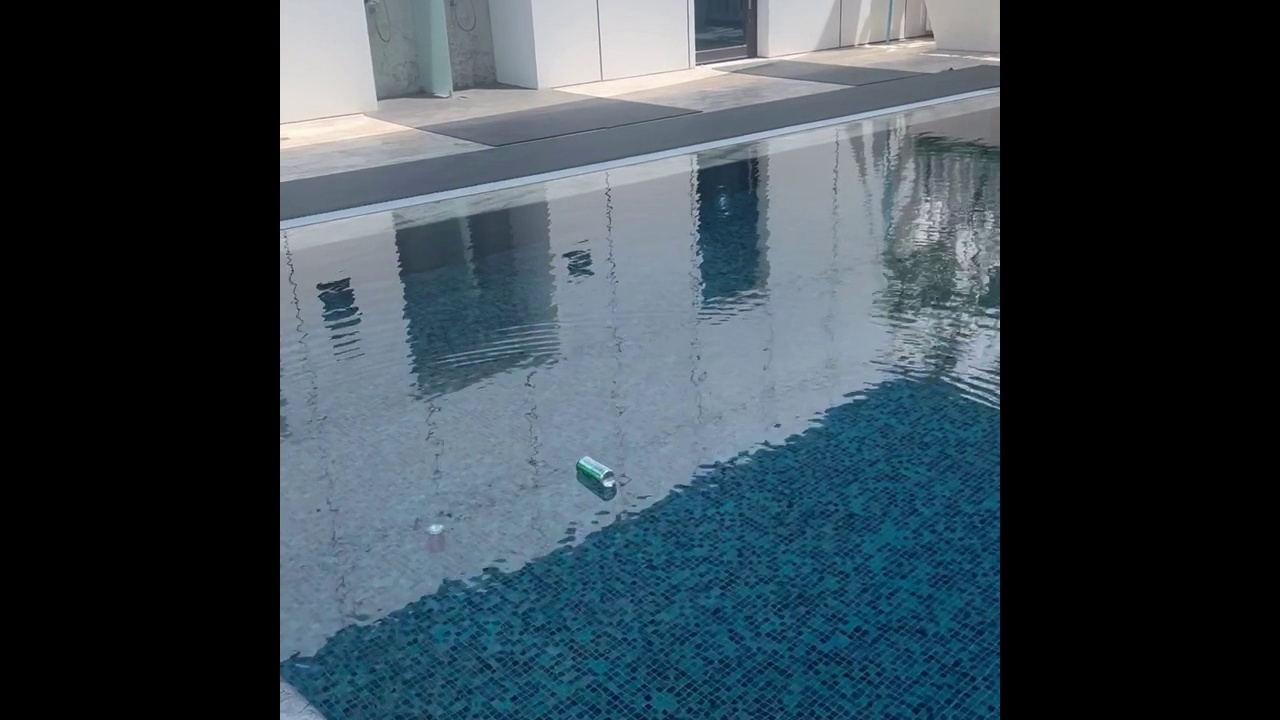debris: (570, 452, 618, 495), (416, 519, 448, 556)
